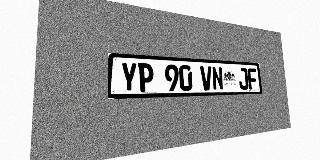0: (179, 65, 192, 91)
9: (165, 64, 179, 91)
F: (247, 68, 257, 89)
J: (238, 68, 249, 90)
N: (212, 66, 224, 90)
P: (138, 63, 154, 92)
V: (200, 66, 213, 91)
Y: (120, 62, 137, 92)
